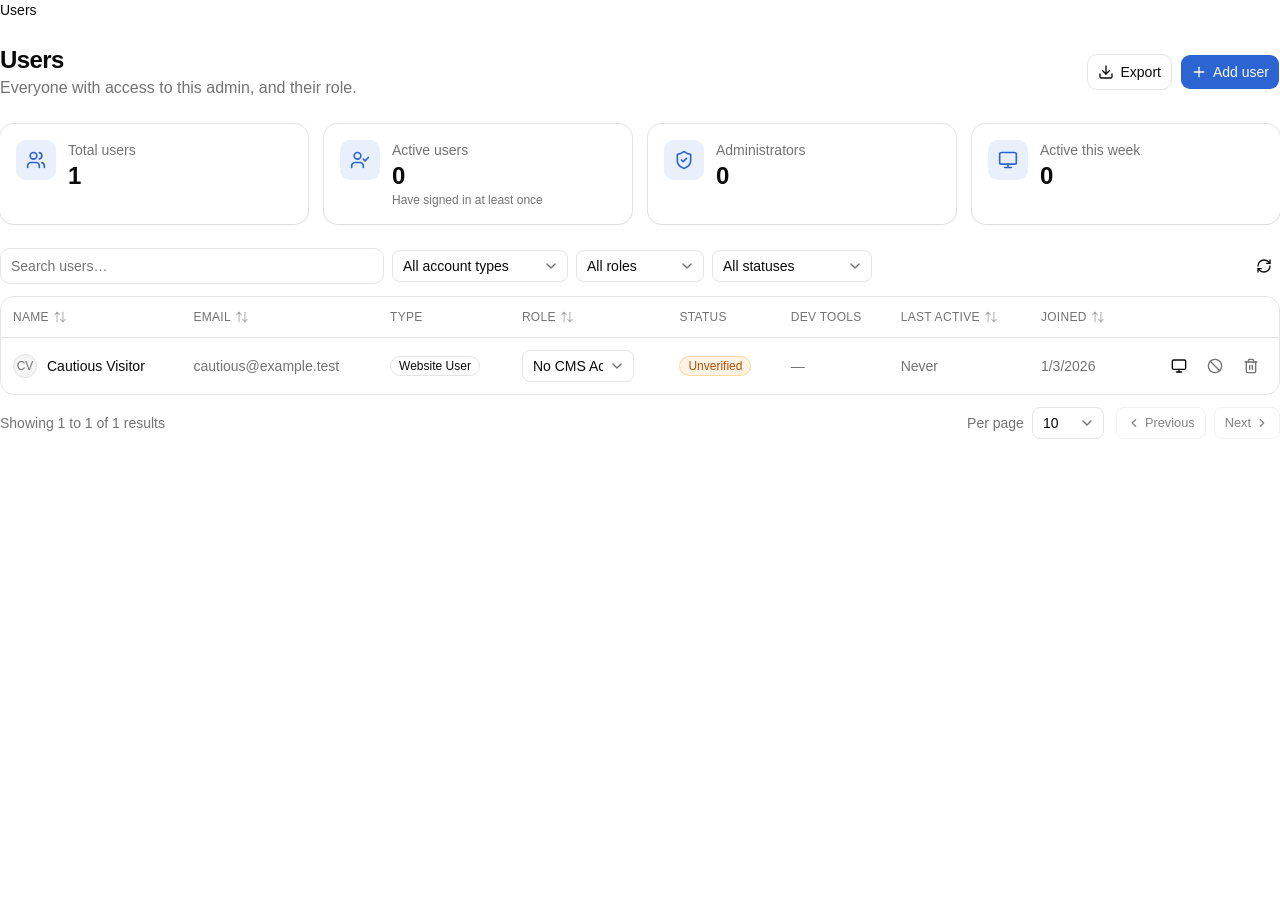
it: UsersPage › requires confirmation before granting CMS access to a website user, and Cancel leaves the role unchanged
Expected: the text "Cautious Visitor" is shown, [47, 356, 145, 376]
Click the dropdown labelled "No CMS access". click: (578, 366)
box: [522, 350, 634, 382]
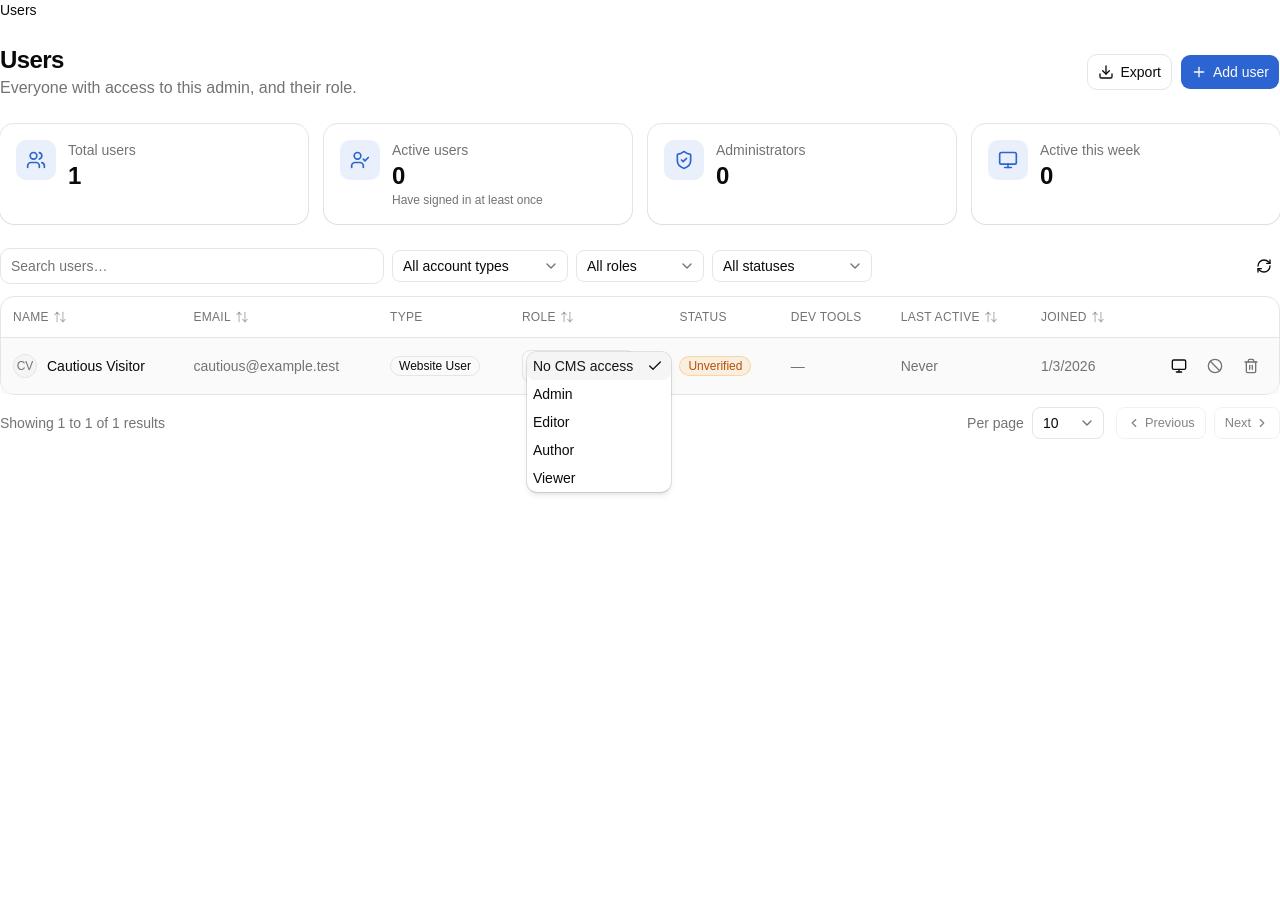
Click the option "Editor". click: (551, 422)
box: [533, 414, 570, 430]
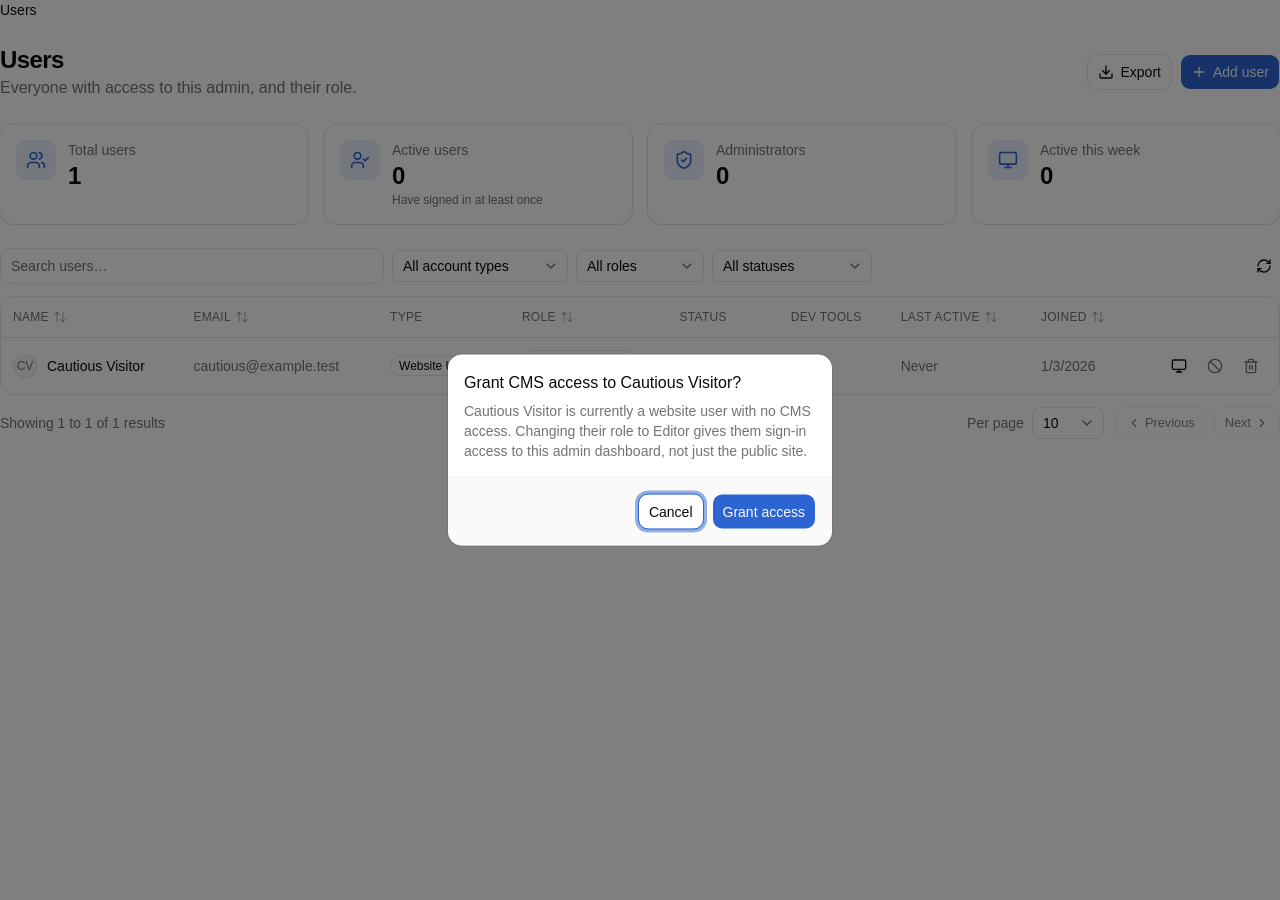
Expected: the heading "Grant CMS access to Cautious Visitor?" is shown, [464, 370, 741, 394]
Click the button "Cancel". click: (671, 512)
box: [638, 494, 704, 530]
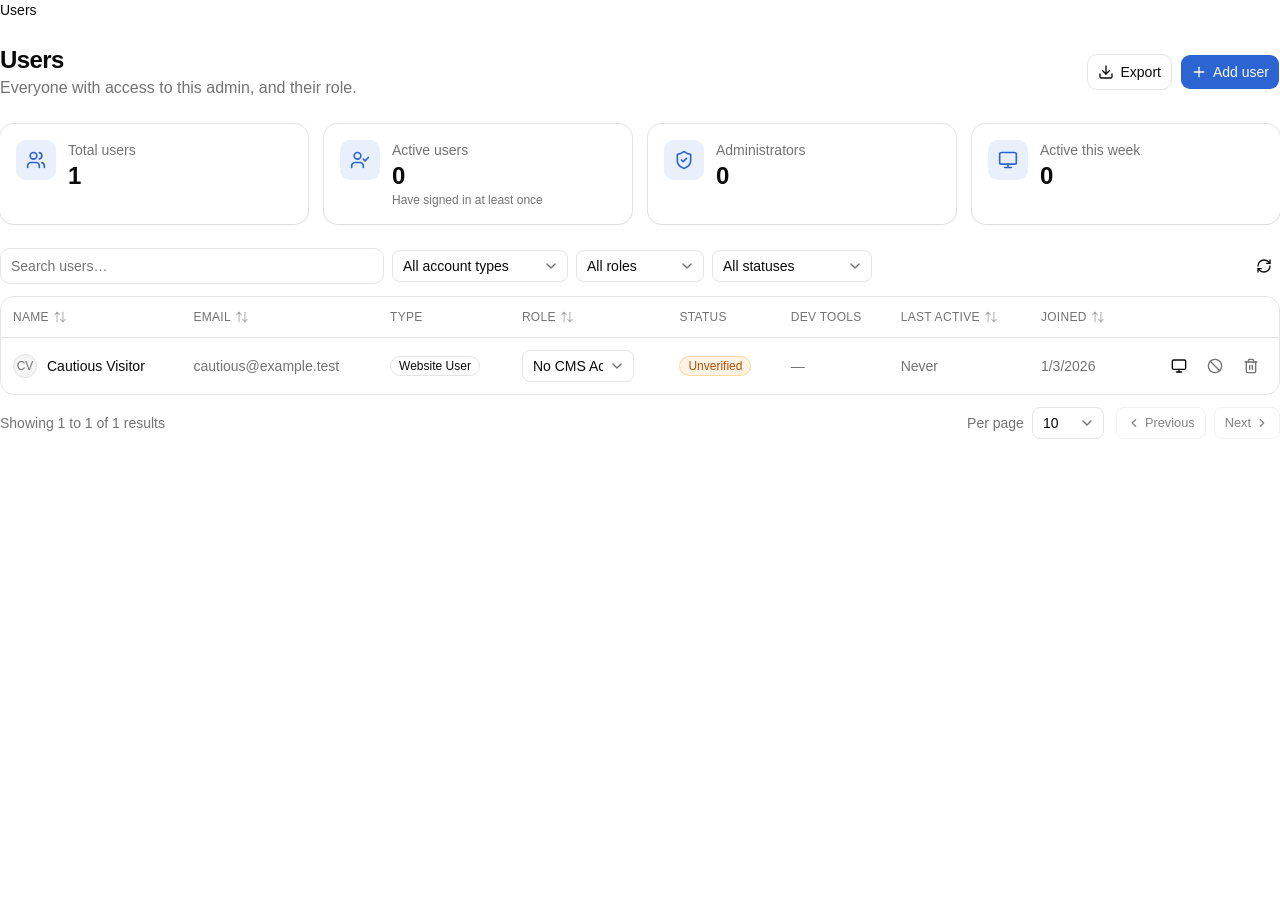
Expected: the heading "Grant CMS access to Cautious Visitor?" is gone
